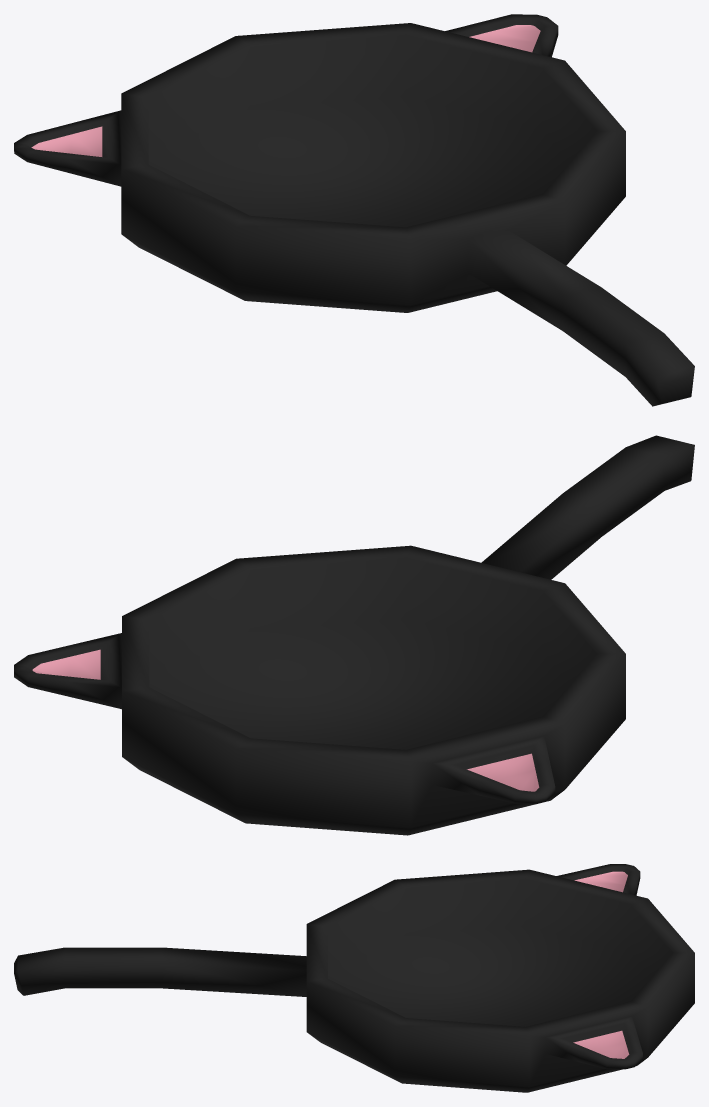
File: pan.fbx
The picture shows the model from 3 angles, top to bottom: view 1: azimuth 30°, elevation 25°; view 2: azimuth 150°, elevation 25°; view 3: azimuth 270°, elevation 25°; orthographic projection. The views are drawn at different scales.
Parts seen in each view (by area): view 1: pan; view 2: pan; view 3: pan.
Part boxes in pixels (x1=…): pan: x1=14, y1=14, x2=694, y2=406; pan: x1=14, y1=435, x2=694, y2=835; pan: x1=14, y1=864, x2=694, y2=1092.
Bounding box in the file's own units: 0.3653 × 0.0533 × 0.5253.
